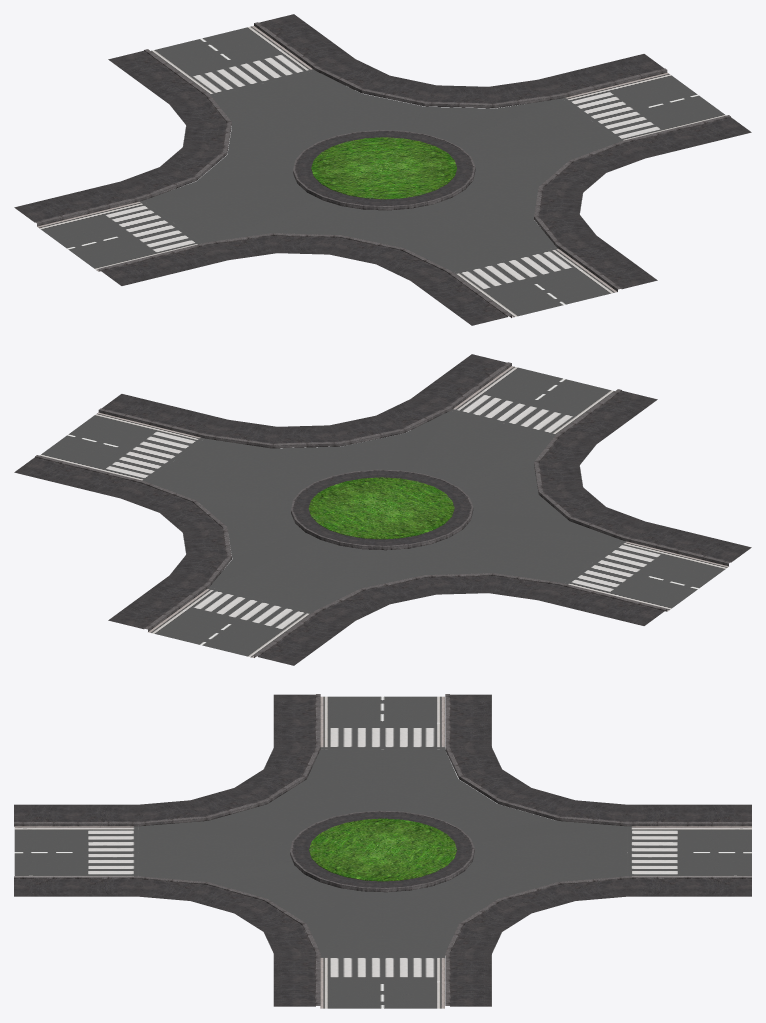
The model's file is round about 2 lines.FBX.
The picture shows the model from 3 angles, top to bottom: view 1: azimuth 30°, elevation 25°; view 2: azimuth 150°, elevation 25°; view 3: azimuth 270°, elevation 25°; orthographic projection.
Parts seen in each view (by area): view 1: Object185; view 2: Object185; view 3: Object185.
Part boxes in pixels (<box>): Object185: <box>14,14,751,325</box>; Object185: <box>14,354,751,665</box>; Object185: <box>14,694,751,1008</box>.
Bounding box in the file's own units: 71.05 × 0.5416 × 71.
